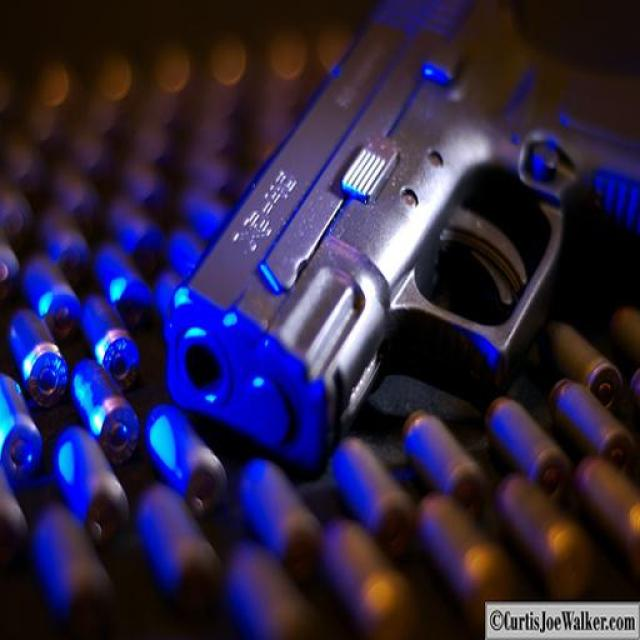pistol: (170, 1, 640, 459)
